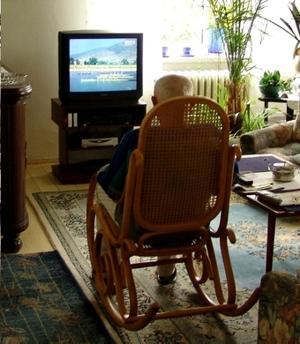person: (98, 73, 236, 284)
